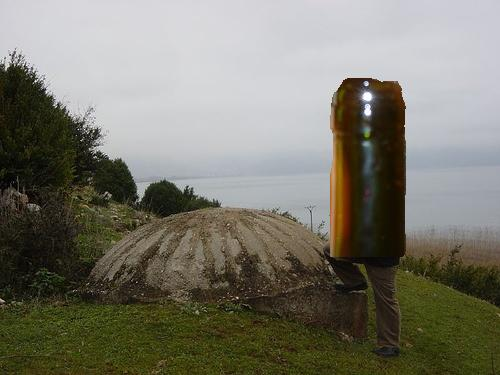tampered: (330, 79, 406, 257)
